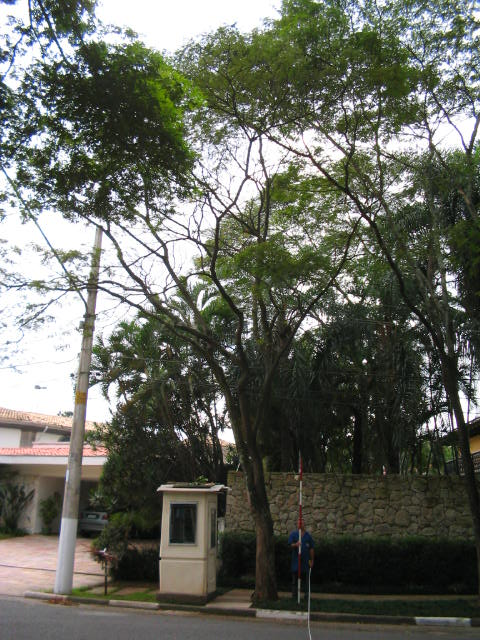stem: (228, 484, 287, 601)
stick: (286, 449, 314, 606)
tree: (1, 1, 404, 603)
